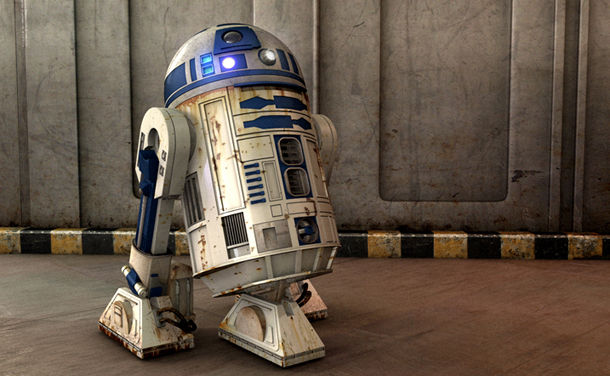r2d2: (98, 22, 342, 368)
